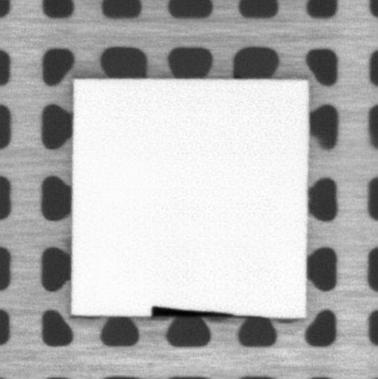DIE_BROKEN: (150, 304, 234, 320)
